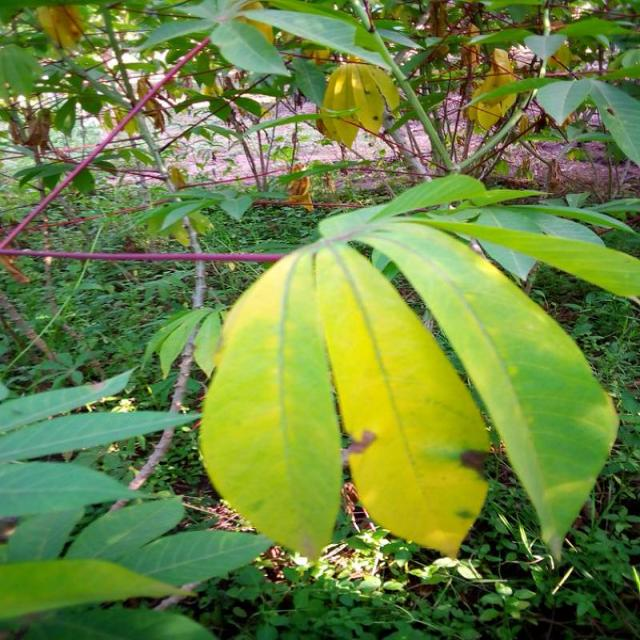cassava leaf: (318, 207, 620, 565), (198, 236, 493, 564)
